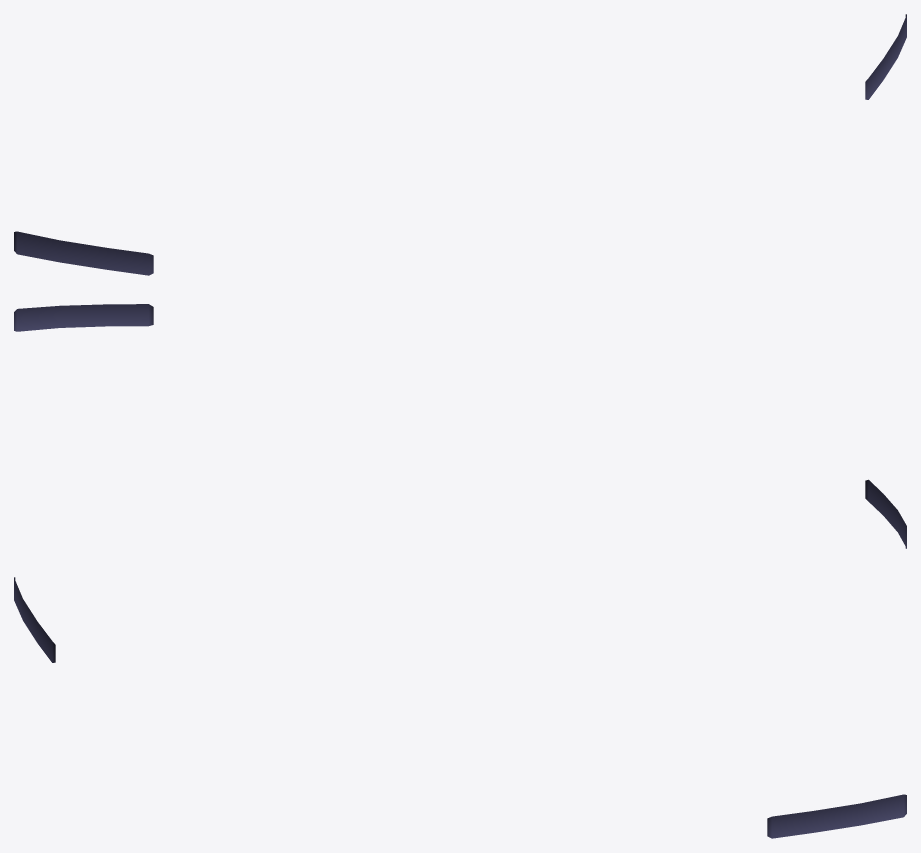
Rendered from Mustang16_FB_GT_Detail.fbx.
3 renders of one model, top to bottom at view 1: azimuth 30°, elevation 25°; view 2: azimuth 150°, elevation 25°; view 3: azimuth 330°, elevation 25°, orthographic.
Visible parts, largest first — view 1: Mustang16_FB_GT_Detail; view 2: Mustang16_FB_GT_Detail; view 3: Mustang16_FB_GT_Detail.
Part boxes in pixels (bbox=[...]): Mustang16_FB_GT_Detail: bbox=[14, 14, 906, 275]; Mustang16_FB_GT_Detail: bbox=[14, 304, 906, 548]; Mustang16_FB_GT_Detail: bbox=[14, 577, 906, 838].
Size of the model in its own units: 162 by 5.35 by 15.62.
